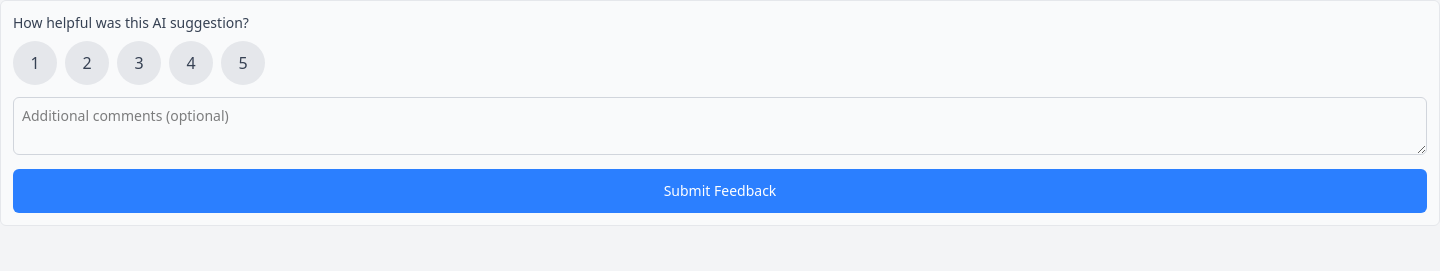
Test: AIFeedback Component › shows error when submitting without selecting a rating
Submit without selecting a rating
Step 1. Click the button with test id "test-feedback-submit" → (720, 191), box [13,169,1427,213]
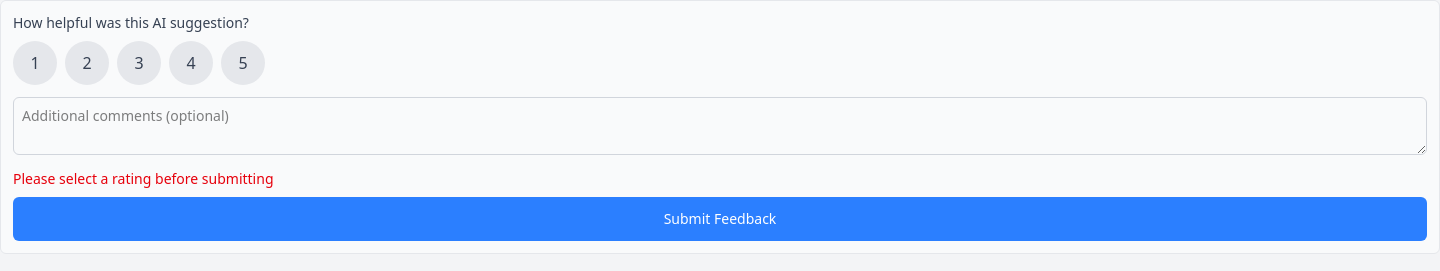
Now the text "Please select a rating before submitting" is shown, box [13,169,274,188]
